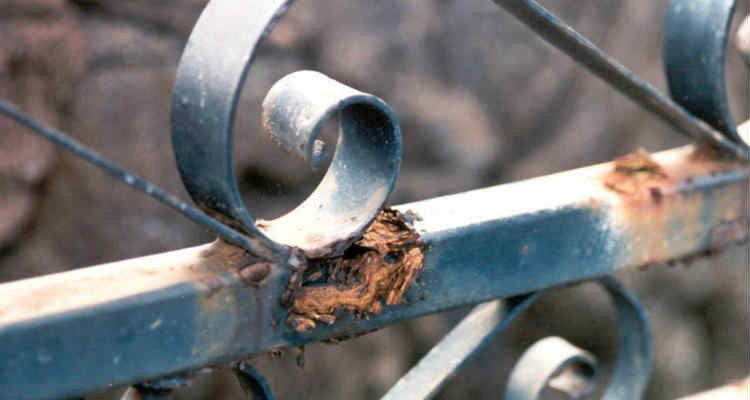rust: (228, 214, 434, 333), (607, 151, 673, 201)
